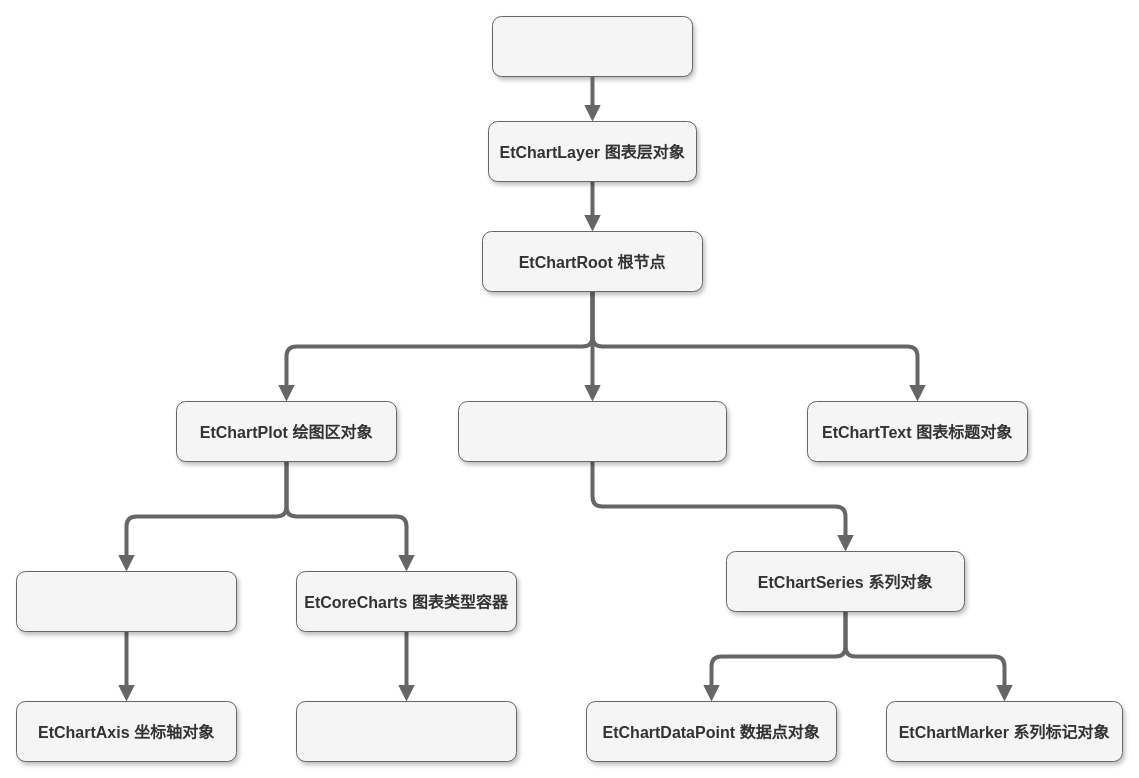
This 1139x778 diagram has some shape labels left out. The shapes that lost their labels are listed below. From the top down, each one's centre as x and y in pixels, then its label:
At [593,48]: "EtShape 图表对象".
At [593,432]: "EtChartSeriesCollection 系列容器".
At [127,602]: "EtChartAxes 坐标轴容器".
At [407,732]: "EtCoreChart 图表类型".
